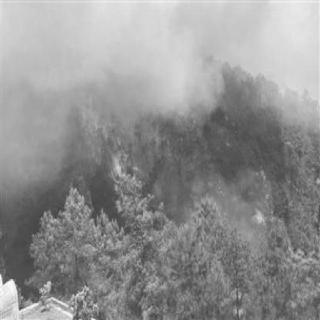Fire: (60, 89, 278, 238)
Smoke: (8, 12, 216, 106)
